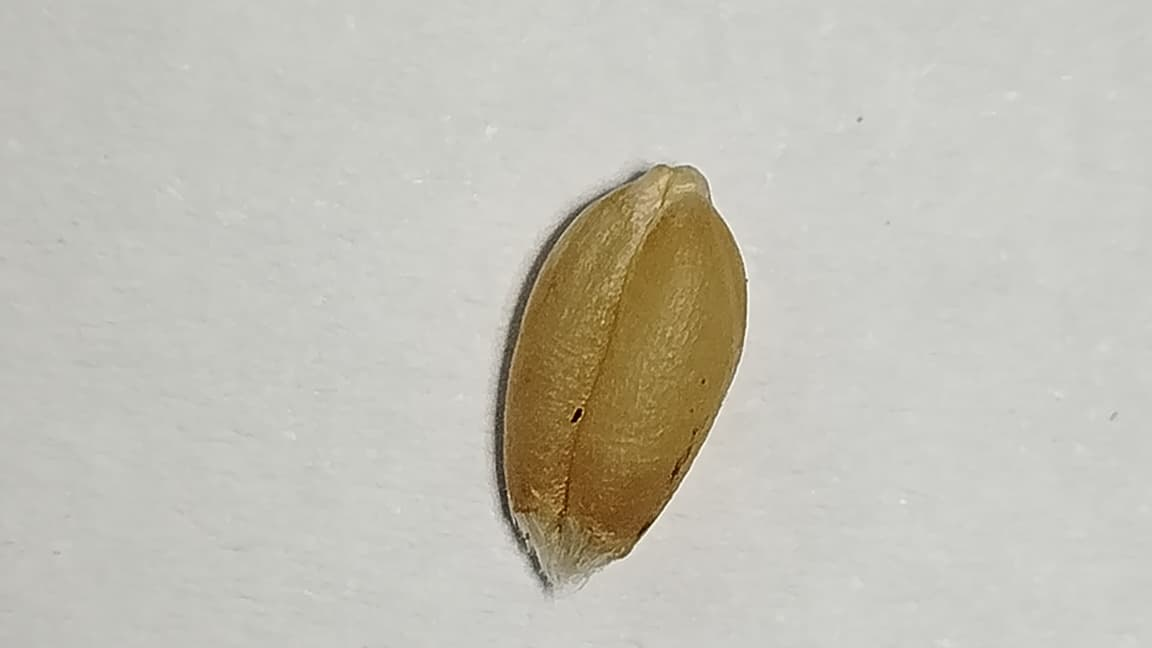healthy: (503, 166, 746, 578)
